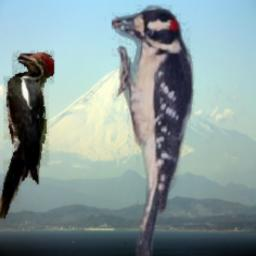Woodpecker: (113, 1, 196, 256), (0, 51, 54, 220)
